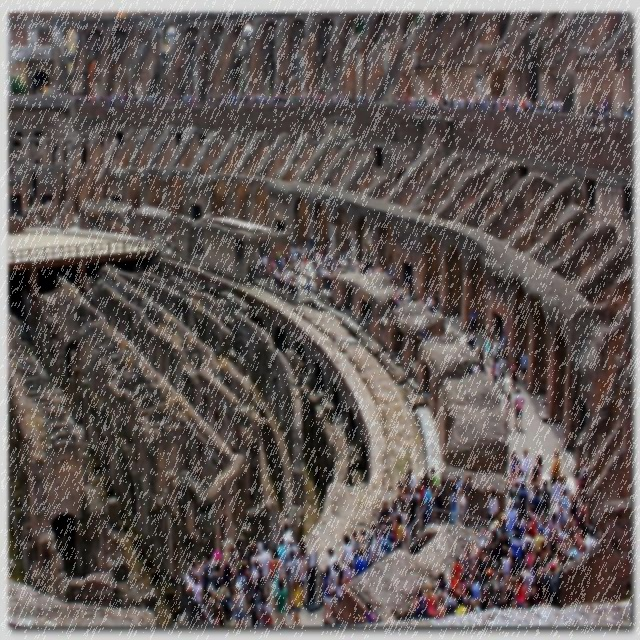pessoa: (61, 90, 562, 116), (262, 233, 340, 300), (523, 499, 562, 604), (560, 470, 602, 563), (462, 515, 502, 570), (459, 585, 479, 639), (257, 542, 273, 606), (354, 256, 394, 280), (541, 562, 561, 608), (217, 584, 235, 635), (236, 536, 271, 562), (320, 564, 334, 628), (476, 582, 492, 638), (290, 574, 306, 626), (394, 512, 408, 570), (247, 580, 262, 634), (422, 582, 436, 638), (274, 578, 289, 628), (232, 580, 247, 629), (284, 548, 300, 592), (334, 568, 346, 626), (220, 552, 235, 598), (256, 591, 274, 629), (340, 532, 358, 570), (504, 498, 520, 540), (370, 528, 388, 564), (520, 562, 536, 602), (510, 522, 524, 566), (330, 561, 340, 619), (518, 446, 534, 482), (268, 548, 283, 586), (186, 572, 205, 602), (391, 280, 411, 308), (190, 555, 210, 583), (512, 387, 524, 433), (338, 552, 356, 582), (513, 572, 528, 608), (296, 548, 308, 592), (352, 546, 368, 579), (527, 464, 542, 499), (454, 486, 467, 526), (283, 536, 299, 568), (240, 560, 251, 606), (494, 568, 506, 610), (498, 528, 510, 570), (501, 392, 514, 430), (548, 447, 561, 485), (358, 520, 379, 543), (486, 486, 498, 526), (540, 478, 552, 518), (518, 480, 530, 520), (378, 526, 395, 554), (364, 530, 376, 569), (550, 474, 564, 507), (559, 473, 571, 511), (454, 570, 466, 608), (504, 575, 517, 610), (208, 561, 224, 589), (444, 586, 458, 618), (528, 487, 544, 515), (396, 476, 410, 508), (210, 584, 220, 628), (412, 589, 426, 620), (470, 570, 482, 606), (448, 483, 458, 526), (574, 456, 589, 484), (498, 352, 508, 392), (508, 457, 524, 482), (508, 468, 524, 493), (489, 354, 500, 390), (254, 565, 266, 598), (500, 546, 512, 579), (527, 503, 541, 531), (434, 592, 447, 622), (483, 566, 496, 596), (466, 473, 474, 519), (252, 558, 266, 584), (210, 548, 223, 576), (225, 542, 238, 570), (436, 578, 449, 606), (534, 453, 544, 488), (398, 503, 409, 534), (380, 500, 392, 528), (568, 492, 580, 520), (436, 476, 446, 509), (418, 476, 427, 512), (236, 566, 247, 595), (520, 348, 529, 383), (377, 508, 392, 529), (214, 602, 226, 628), (449, 569, 459, 600), (326, 548, 340, 570), (511, 343, 521, 373), (466, 330, 476, 360), (350, 528, 360, 558), (454, 595, 469, 615), (362, 600, 375, 623), (510, 354, 518, 390), (452, 555, 464, 579), (283, 522, 294, 548), (498, 510, 508, 538), (512, 513, 525, 534), (484, 330, 492, 364), (595, 96, 604, 126), (423, 481, 433, 508), (460, 472, 470, 498), (484, 595, 500, 611), (428, 465, 439, 488), (598, 95, 610, 116), (509, 357, 516, 392), (276, 535, 286, 559), (304, 276, 314, 300), (414, 484, 422, 514), (546, 511, 560, 528), (385, 521, 395, 544), (454, 473, 464, 494), (298, 540, 308, 560), (432, 288, 440, 313), (403, 472, 413, 492), (418, 326, 428, 346), (470, 305, 477, 333), (492, 336, 500, 360), (426, 290, 434, 314), (438, 570, 446, 594), (623, 98, 632, 119), (426, 475, 434, 498), (407, 466, 417, 484), (392, 512, 398, 542), (508, 481, 520, 496), (499, 330, 507, 352), (510, 449, 518, 470), (406, 486, 414, 506), (478, 344, 485, 364), (530, 487, 540, 500), (480, 546, 488, 562), (417, 290, 425, 306), (422, 466, 429, 484), (472, 360, 480, 374), (508, 522, 516, 536), (480, 363, 488, 376), (366, 230, 374, 243), (540, 398, 548, 410), (432, 299, 437, 317), (359, 528, 367, 539), (391, 500, 398, 512), (346, 246, 350, 264), (472, 332, 475, 352), (474, 604, 481, 612), (494, 330, 499, 340)
